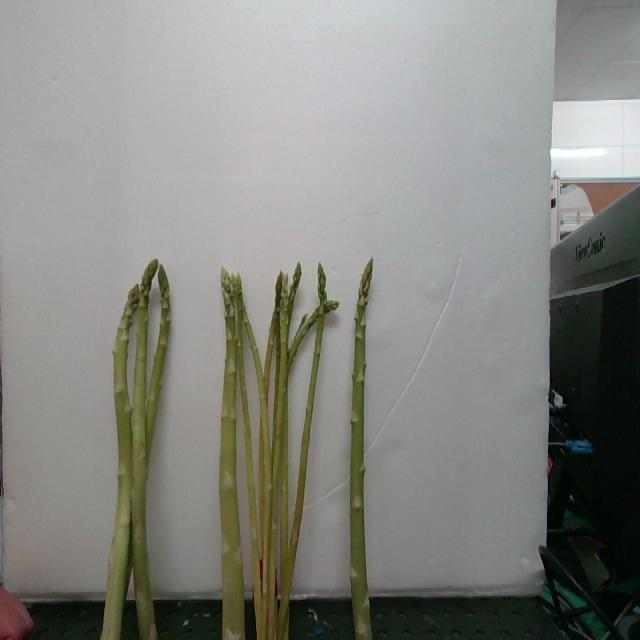aspargus: (99, 279, 140, 640), (351, 260, 375, 640)
